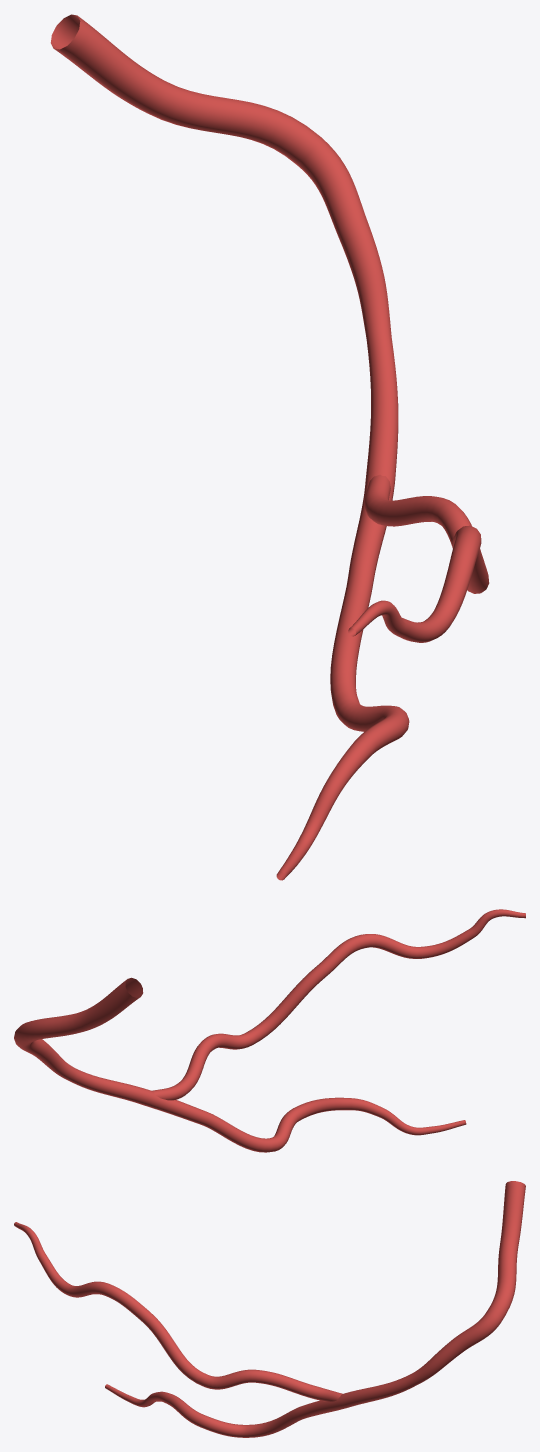
3 renders of one model, top to bottom at view 1: azimuth 30°, elevation 25°; view 2: azimuth 150°, elevation 25°; view 3: azimuth 270°, elevation 25°, orthographic. The views are drawn at different scales.
Visible parts, largest first — view 1: 左侧前额动脉; view 2: 左侧前额动脉; view 3: 左侧前额动脉.
Boxes of the visible parts, x1,y1,x2,y2 form: 左侧前额动脉: [50, 14, 489, 880]; 左侧前额动脉: [14, 909, 525, 1152]; 左侧前额动脉: [14, 1181, 525, 1437].
Size of the model in its own units: 0.0424 by 0.0458 by 0.0812.
